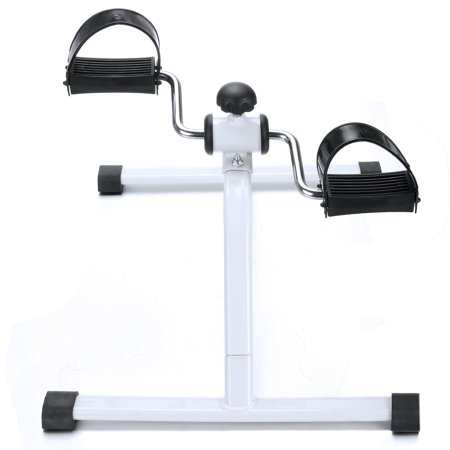gym_bike: (37, 15, 439, 444)
